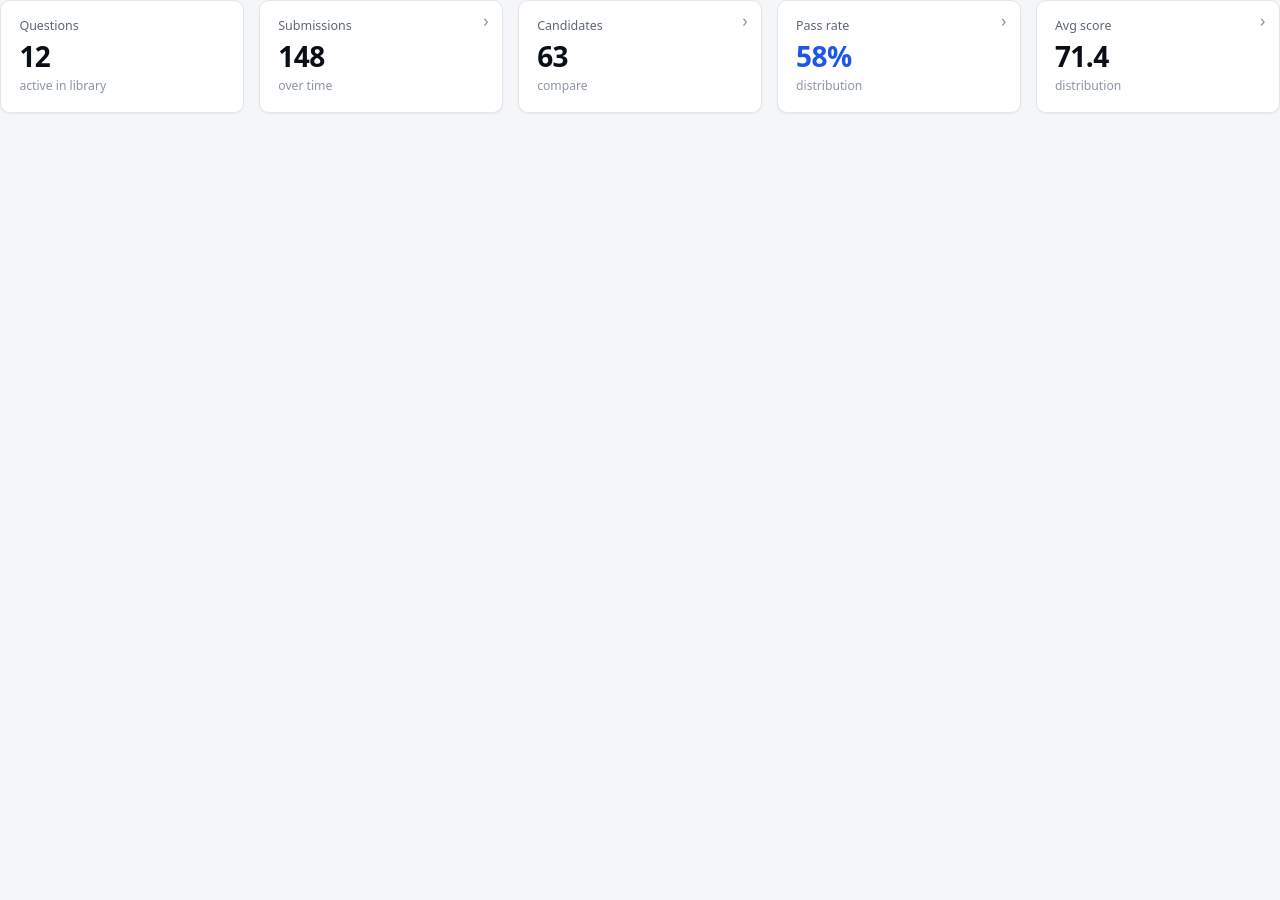
Test: AnalyticsPanel (AR1) › opens one number at a time, and closes again
This screenshot has width=1280, height=900.
Click the button "Pass rate 58% distribution" at [899, 56], box [777, 0, 1021, 112]
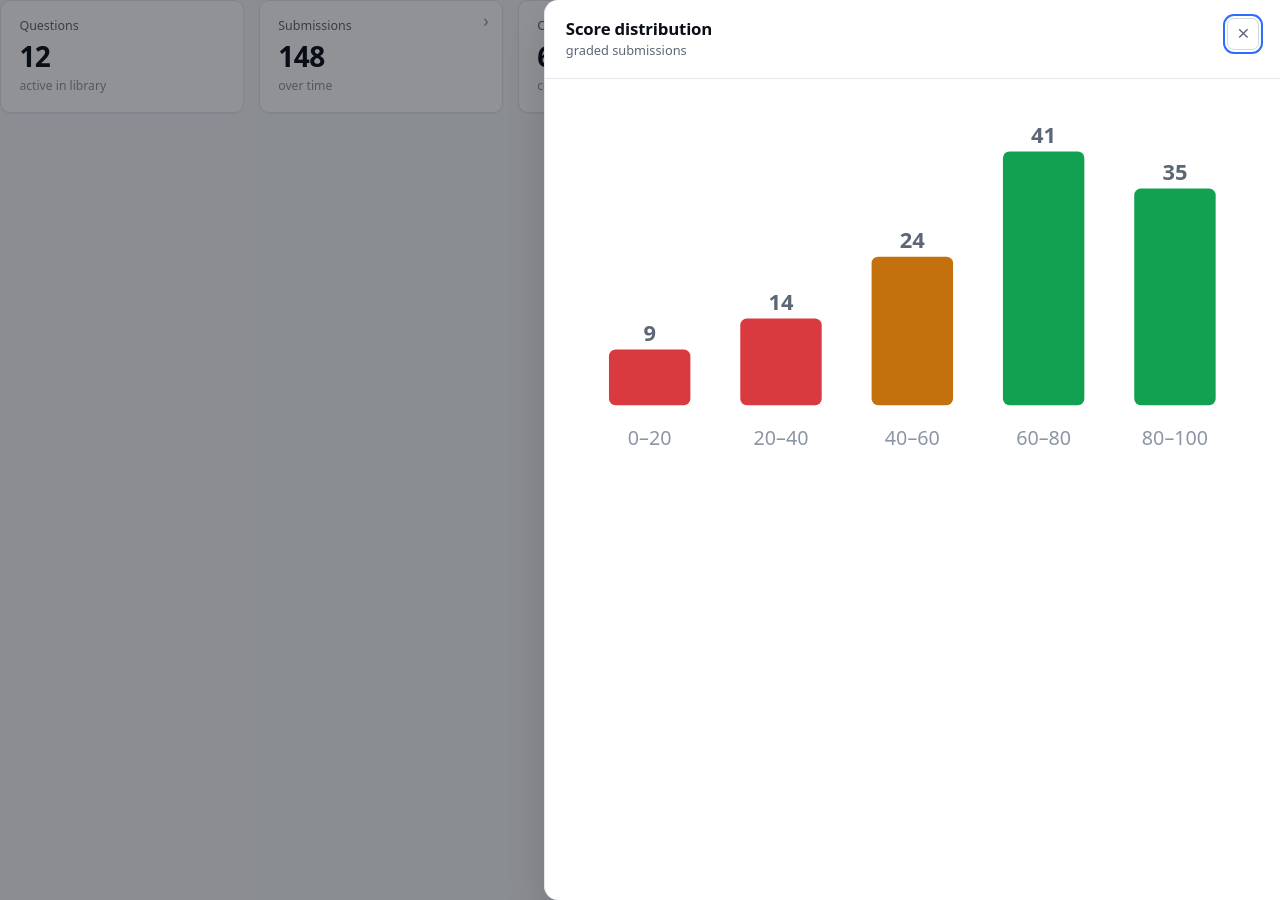
Now the heading "Score distribution" is shown, box [566, 18, 712, 39]
Click the button named "close" at [1243, 34], box [1227, 18, 1259, 50]
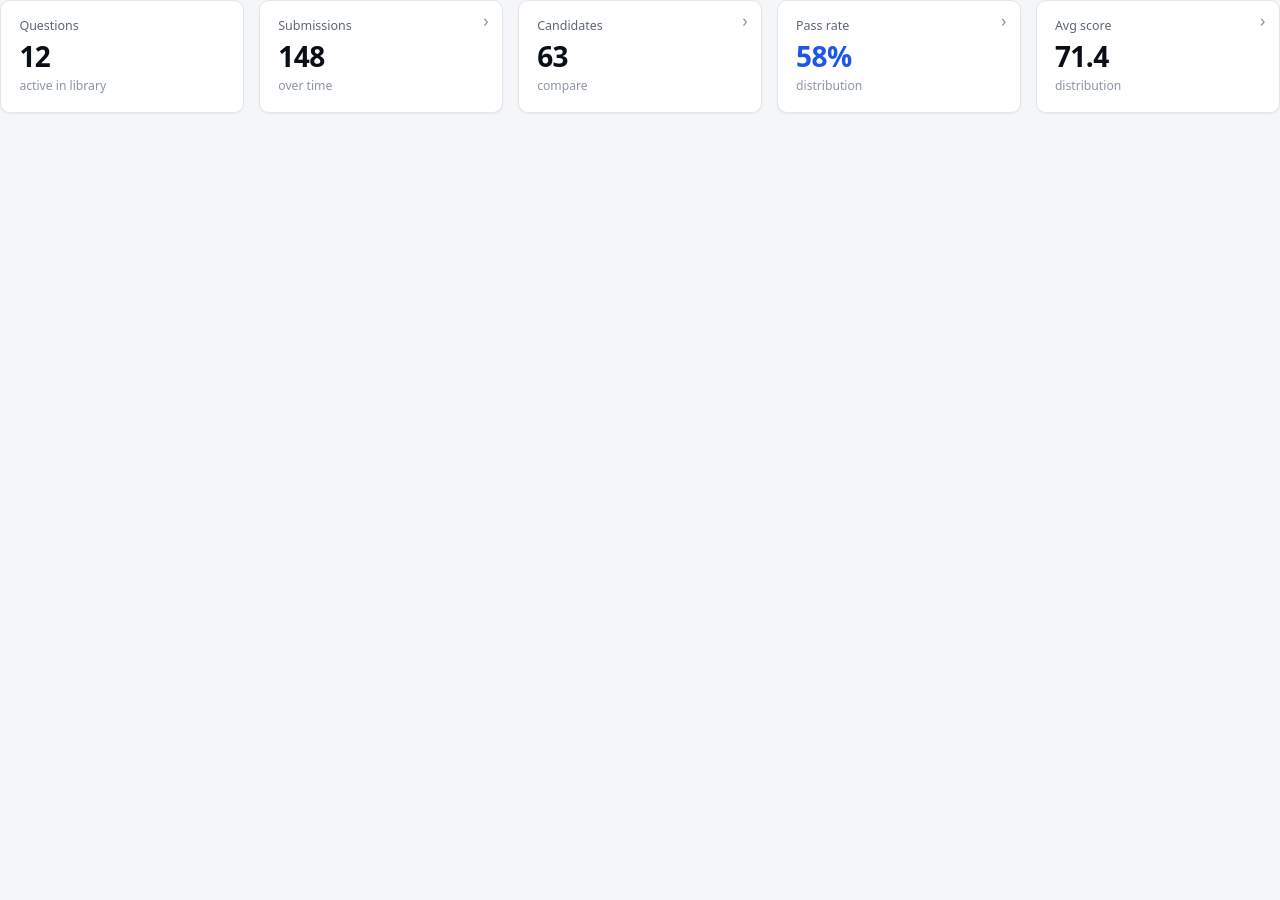
Now the dialog is gone
